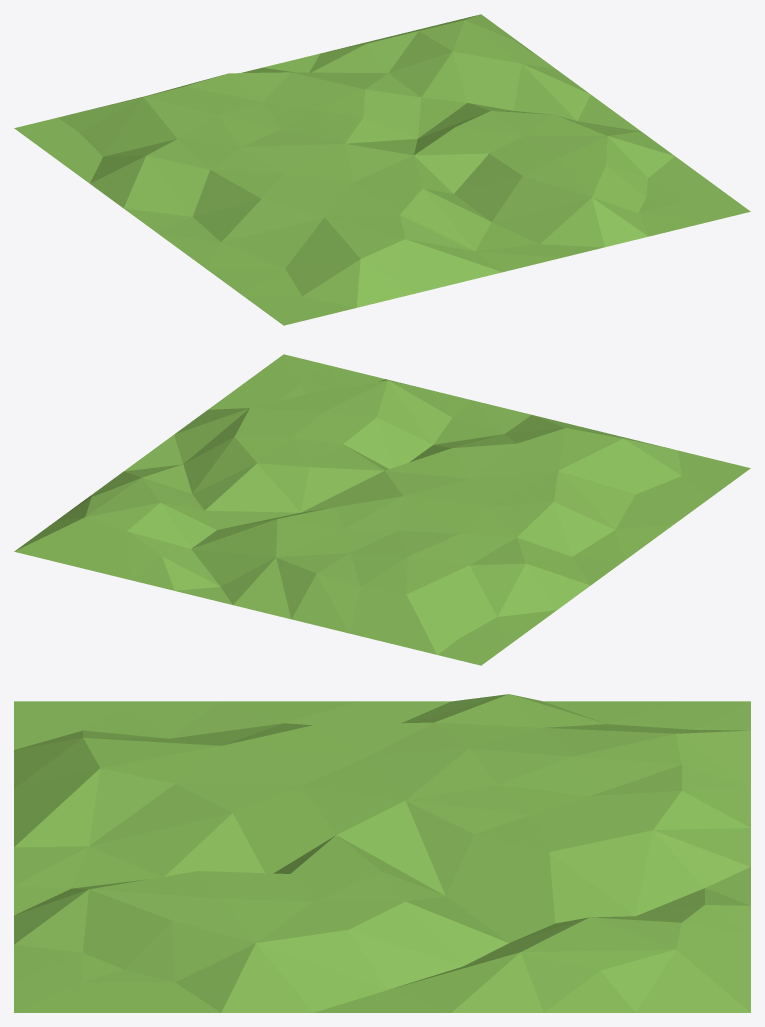
The model's file is MT_Terrain_S_c_26.fbx.
3 views of the same model, one above another, from view 1: azimuth 30°, elevation 25°; view 2: azimuth 150°, elevation 25°; view 3: azimuth 270°, elevation 25° (orthographic). The views are drawn at different scales.
Parts seen in each view (by area): view 1: MT_Terrain_S_c_26; view 2: MT_Terrain_S_c_26; view 3: MT_Terrain_S_c_26.
Part boxes in pixels (bbox=[...]): MT_Terrain_S_c_26: bbox=[14, 14, 750, 325]; MT_Terrain_S_c_26: bbox=[14, 354, 750, 665]; MT_Terrain_S_c_26: bbox=[14, 694, 750, 1012].
Bounding box in the file's own units: 2500 × 147 × 2500.
